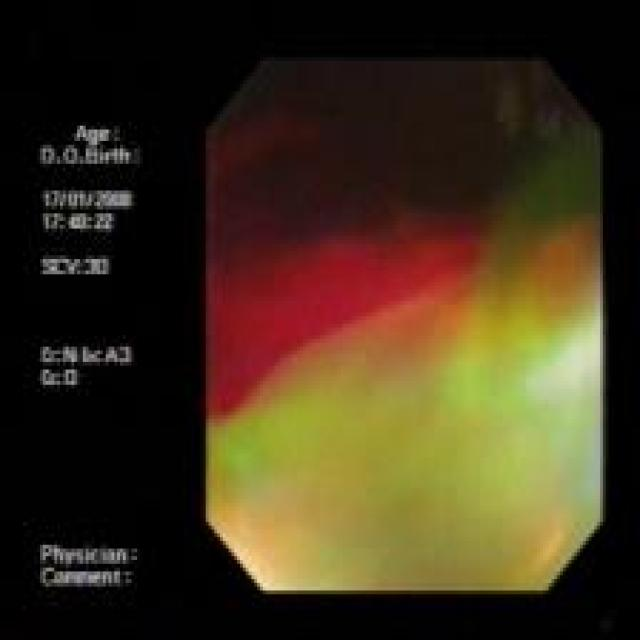color misalignment: (207, 59, 601, 590), (35, 122, 156, 597), (463, 233, 603, 406), (499, 122, 597, 231)
contrast: (208, 59, 590, 236)
